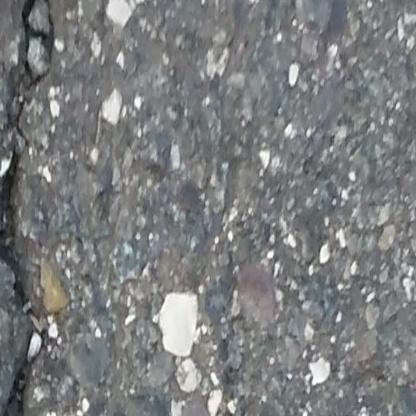Cracks: (0, 146, 47, 342), (19, 0, 60, 92), (0, 359, 32, 416)
